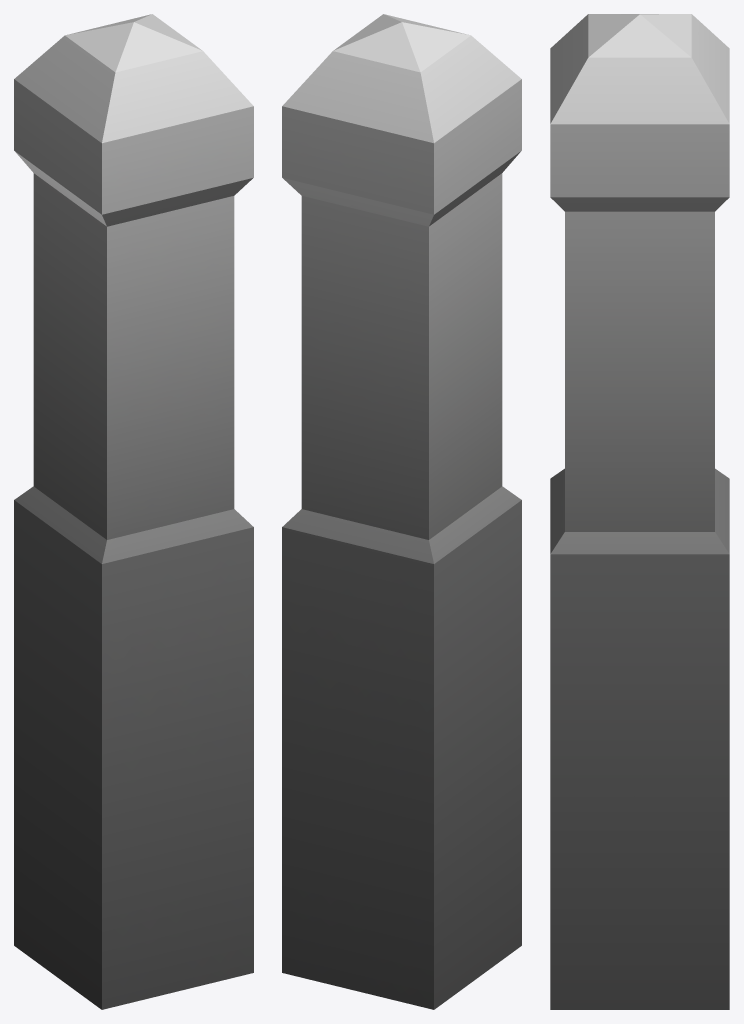
Rendered from fencestoneend.glb.
3 renders of one model, left to right at view 1: azimuth 30°, elevation 25°; view 2: azimuth 150°, elevation 25°; view 3: azimuth 270°, elevation 25°, orthographic. The views are drawn at different scales.
Parts seen in each view (by area): view 1: FenceStoneEnd_mesh1; view 2: FenceStoneEnd_mesh1; view 3: FenceStoneEnd_mesh1.
Part boxes in pixels (bbox=[...]): FenceStoneEnd_mesh1: bbox=[14, 14, 253, 1009]; FenceStoneEnd_mesh1: bbox=[282, 14, 521, 1009]; FenceStoneEnd_mesh1: bbox=[550, 14, 729, 1009].
Size of the model in its own units: 0.6 by 3.54 by 0.6.
1 material, 1 textured.
